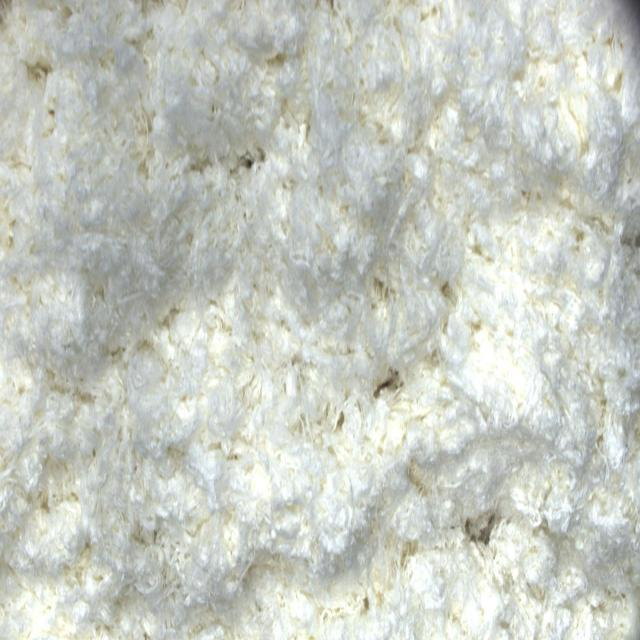dust: (466, 513, 501, 552), (375, 368, 402, 406)
